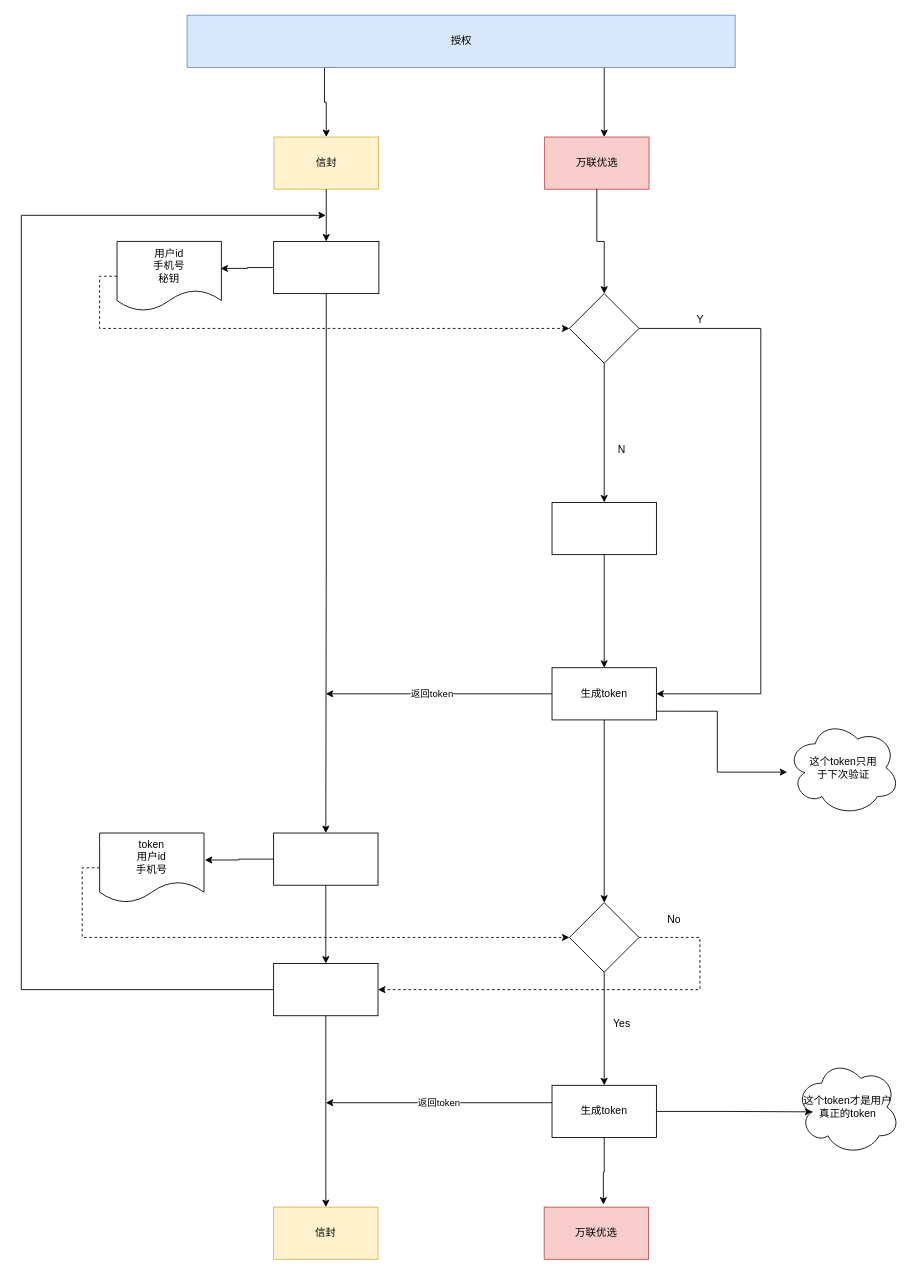
This 915x1275 diagram has some shape labels left out. The shapes that lost their labels are listed below. From the top down, each one's centre as x and y in pixels, then its label:
point (326, 267): 登录
point (604, 328): 验证用户
point (603, 528): 注册 来源信风
point (325, 858): 再次验证
point (604, 937): 验证信息
point (325, 989): 登录失败
